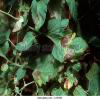Tomato leaf late blight: (46, 18, 87, 64), (26, 53, 64, 85), (10, 6, 30, 32), (15, 31, 35, 54), (58, 70, 78, 91)
